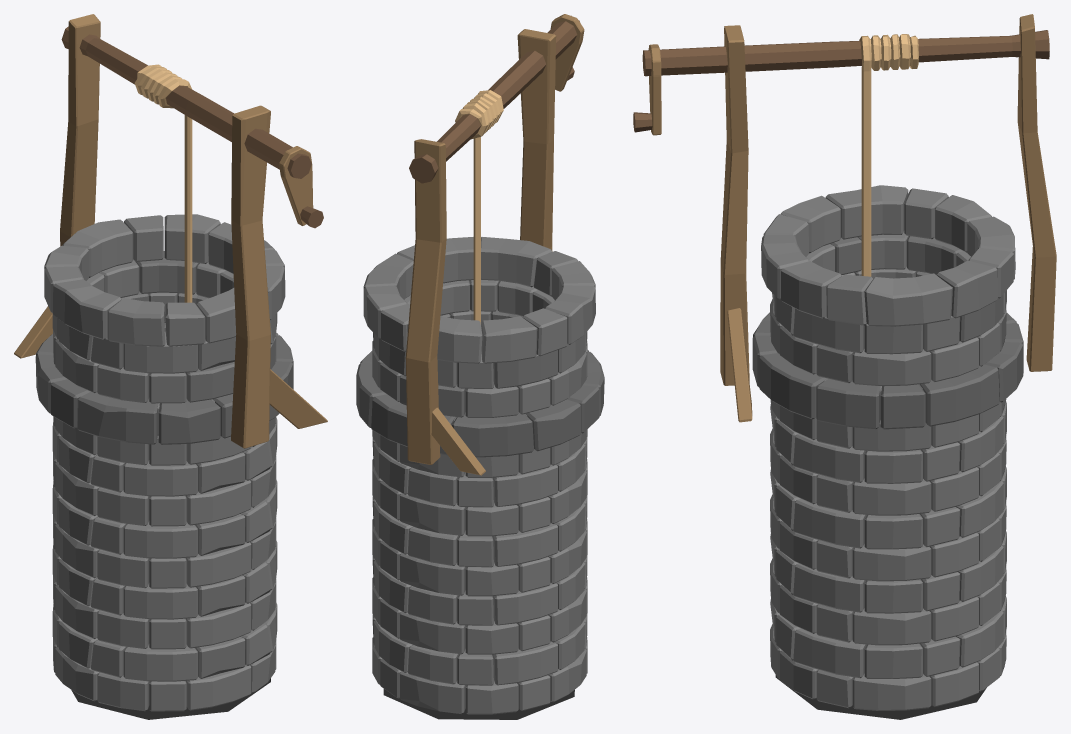
Rendered from well.glb.
The picture shows the model from 3 angles, left to right: view 1: azimuth 30°, elevation 25°; view 2: azimuth 150°, elevation 25°; view 3: azimuth 270°, elevation 25°; orthographic projection. The views are drawn at different scales.
Parts seen in each view (by area): view 1: well; view 2: well; view 3: well.
Boxes of the visible parts, bbox=[...] form: well: bbox=[14, 14, 327, 719]; well: bbox=[356, 14, 604, 719]; well: bbox=[633, 14, 1056, 719].
Bounding box in the file's own units: 0.2381 × 0.6347 × 0.372.
